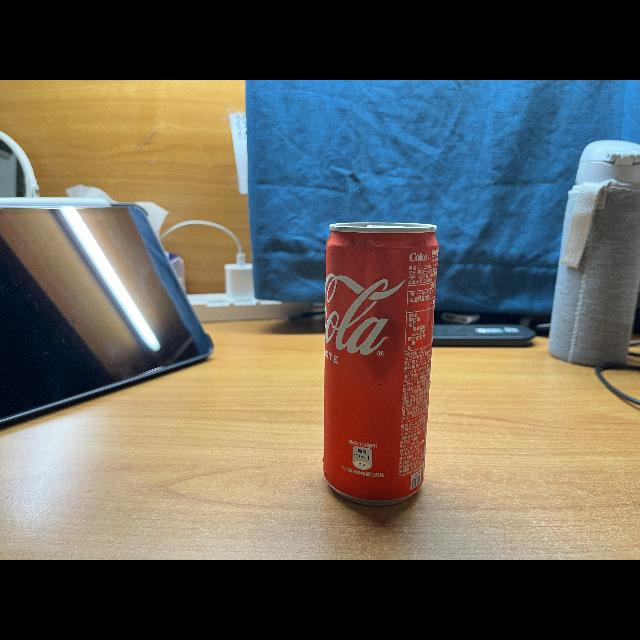can: (321, 216, 444, 509)
